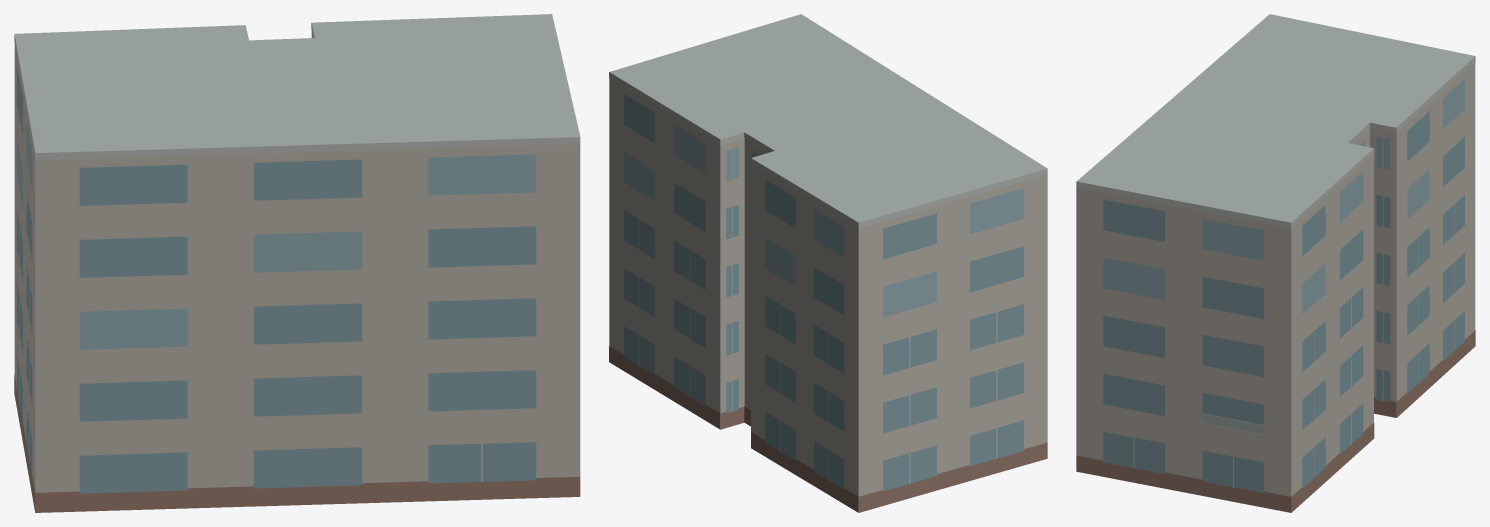
File: survey-upis-32626311.glb
The picture shows the model from 3 angles, left to right: view 1: azimuth 30°, elevation 25°; view 2: azimuth 150°, elevation 25°; view 3: azimuth 270°, elevation 25°; orthographic projection. The views are drawn at different scales.
Parts seen in each view (by area): view 1: survey-upis-32626311.tmp; view 2: survey-upis-32626311.tmp; view 3: survey-upis-32626311.tmp.
Boxes of the visible parts, <box> form: survey-upis-32626311.tmp: <box>14,14,580,512</box>; survey-upis-32626311.tmp: <box>609,14,1047,512</box>; survey-upis-32626311.tmp: <box>1076,14,1475,512</box>.
Bounding box in the file's own units: 19.29 × 12.5 × 15.59.
